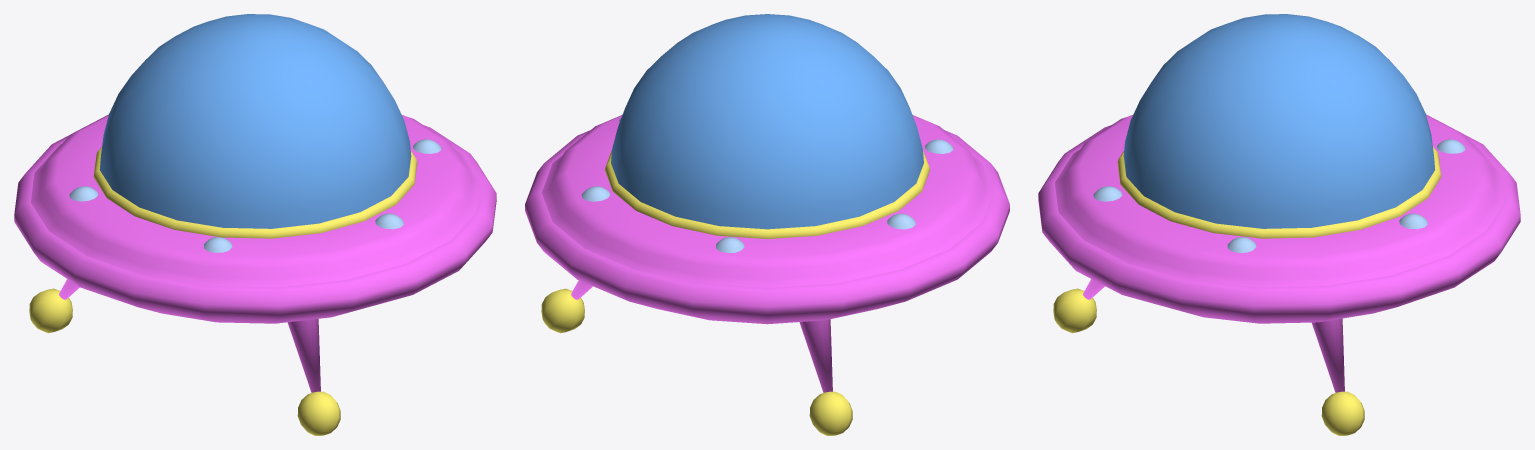
Rendered from Anim_ufo.fbx.
The picture shows the model from 3 angles, left to right: view 1: azimuth 30°, elevation 25°; view 2: azimuth 150°, elevation 25°; view 3: azimuth 270°, elevation 25°; orthographic projection.
Visible parts, largest first — view 1: UFO_perfectbody; view 2: UFO_perfectbody; view 3: UFO_perfectbody.
Boxes of the visible parts, x1=… form: UFO_perfectbody: x1=14, y1=14, x2=496, y2=435; UFO_perfectbody: x1=525, y1=14, x2=1009, y2=435; UFO_perfectbody: x1=1038, y1=14, x2=1520, y2=435.
Size of the model in its own units: 129 by 95.04 by 129.
